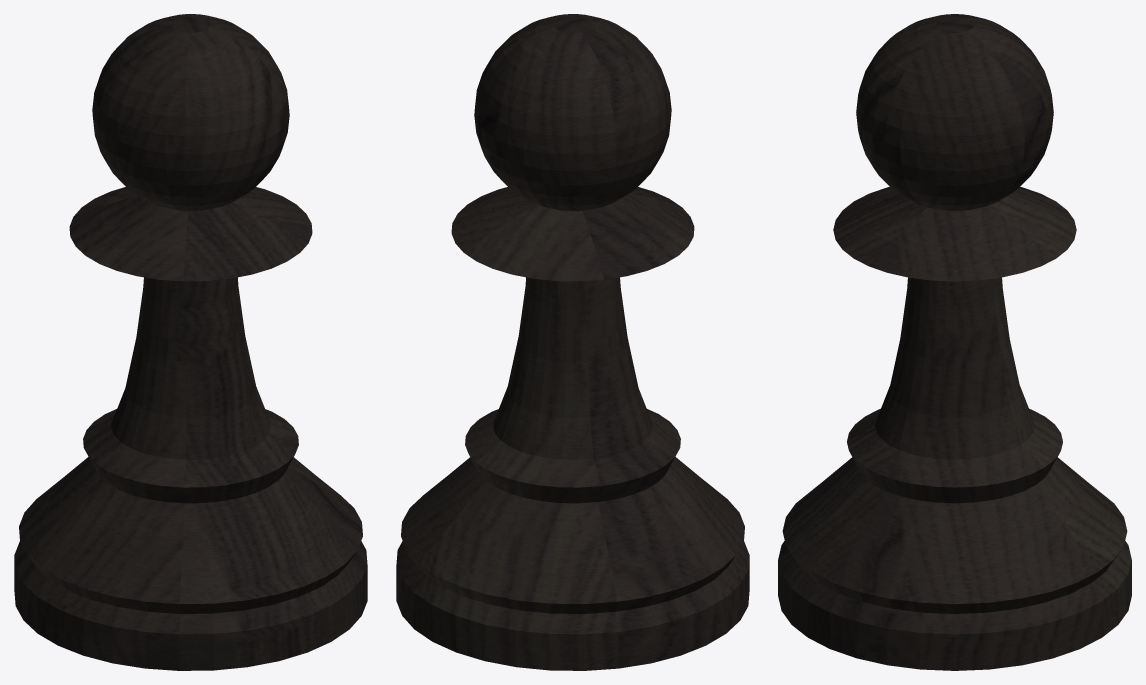
Rendered from pawn.obj.
3 renders of one model, left to right at view 1: azimuth 30°, elevation 25°; view 2: azimuth 150°, elevation 25°; view 3: azimuth 270°, elevation 25°, orthographic.
Parts seen in each view (by area): view 1: Cylinder; view 2: Cylinder; view 3: Cylinder.
Boxes of the visible parts, x1,y1,x2,y2 form: Cylinder: [14, 14, 367, 670]; Cylinder: [396, 14, 749, 670]; Cylinder: [778, 14, 1131, 670].
Bounding box in the file's own units: 2 × 3.58 × 2.
Materials: 1 (1 with a texture image).
